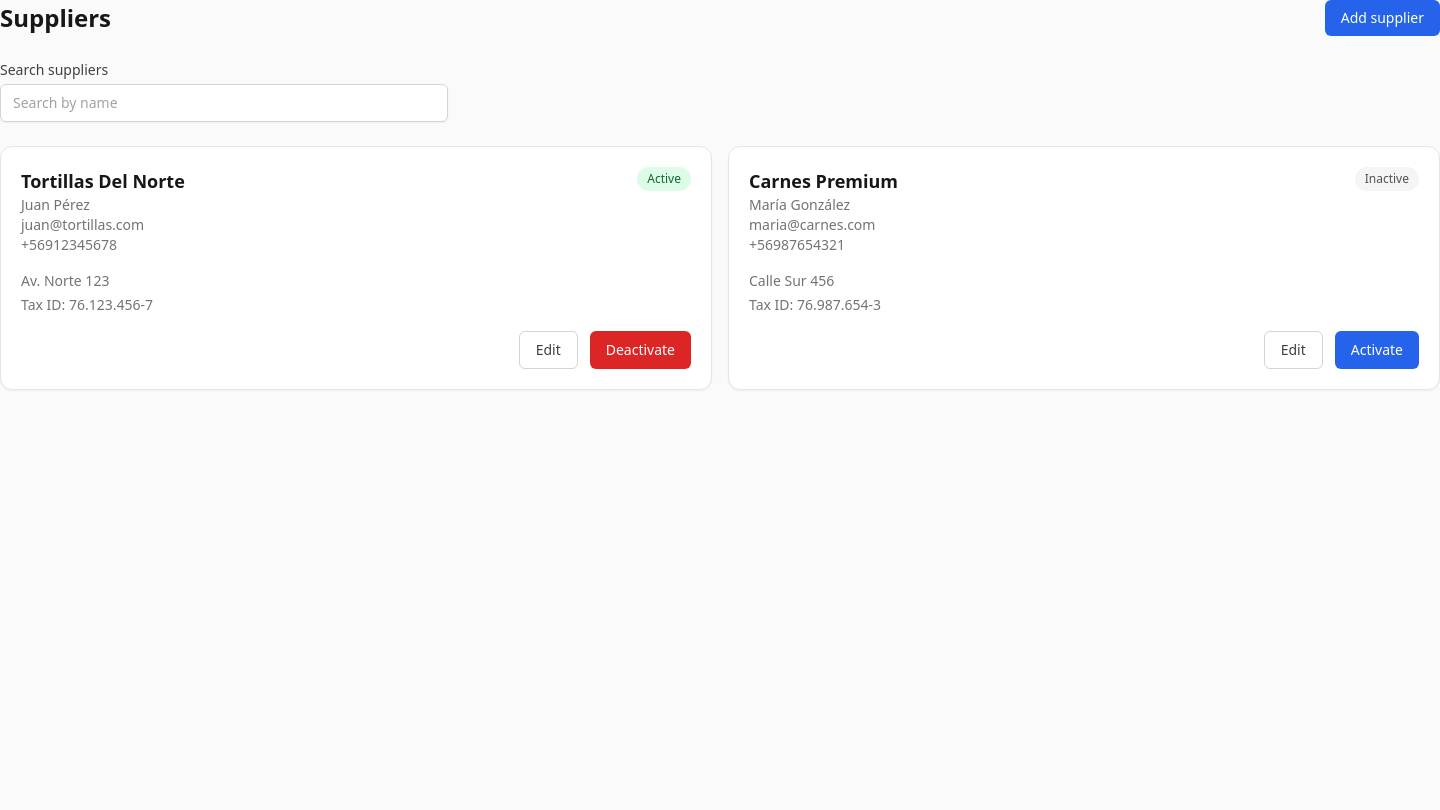
Test: SuppliersPage › opens create supplier modal
Expected: the heading "Suppliers" is shown, [0,2,111,34]
Click the button "Add supplier" at point(1382, 18), box [1325,0,1439,36]
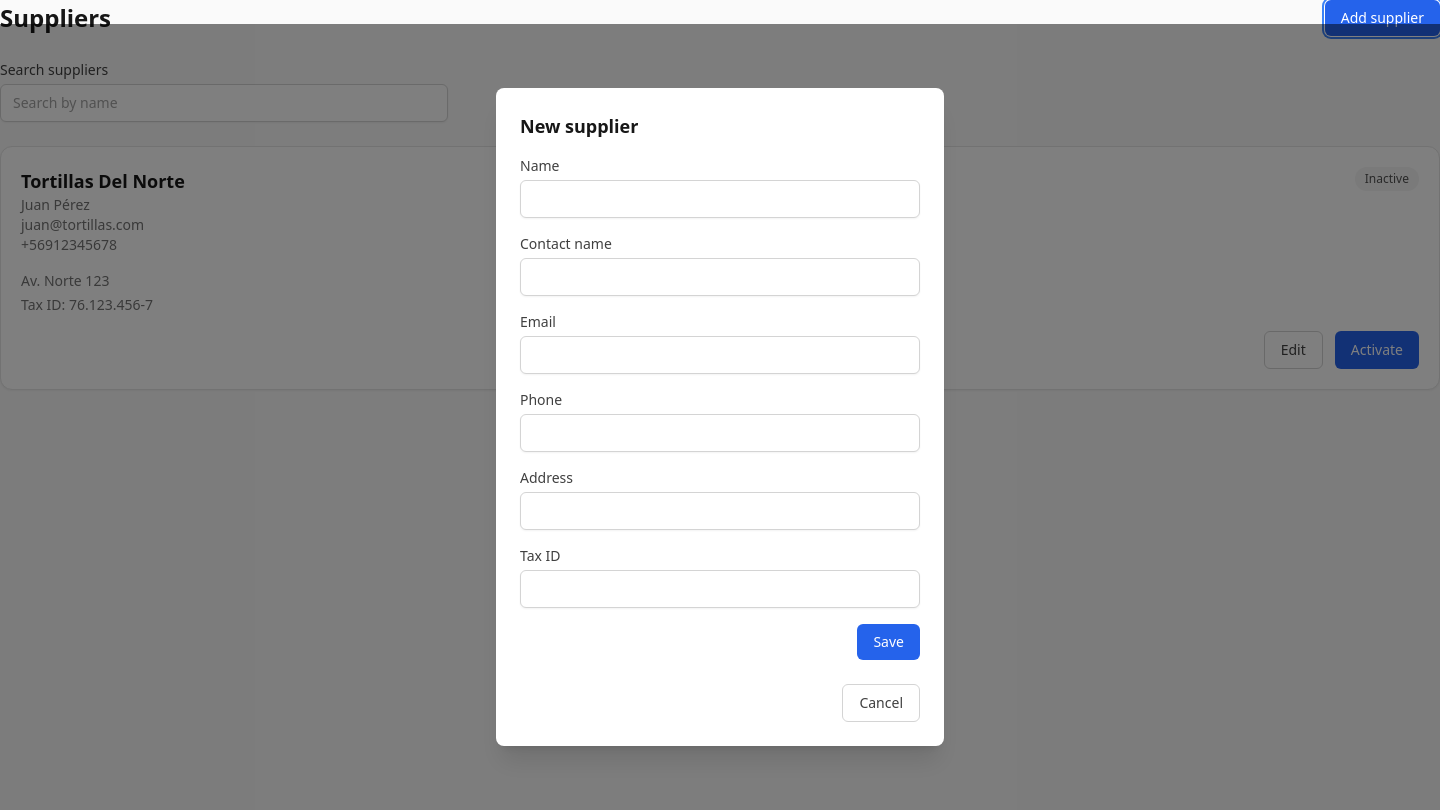
Now the dialog is shown
Now the heading "New supplier" is shown, box [520,114,638,138]
